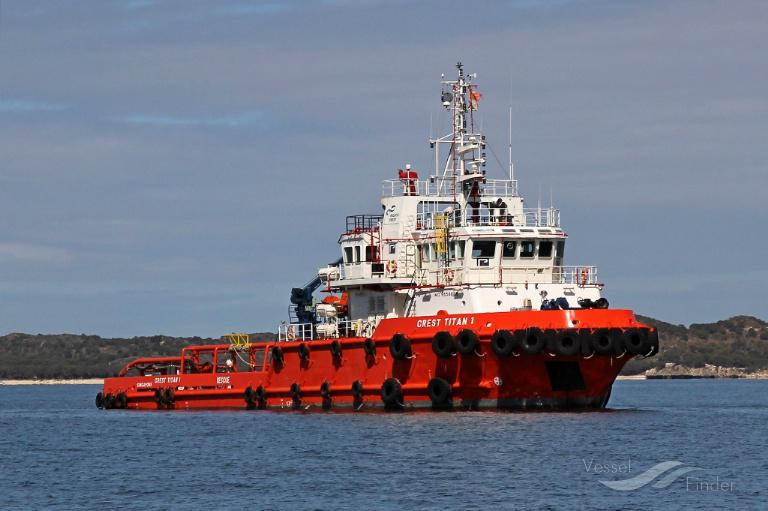OCR: (411, 312, 481, 334)
